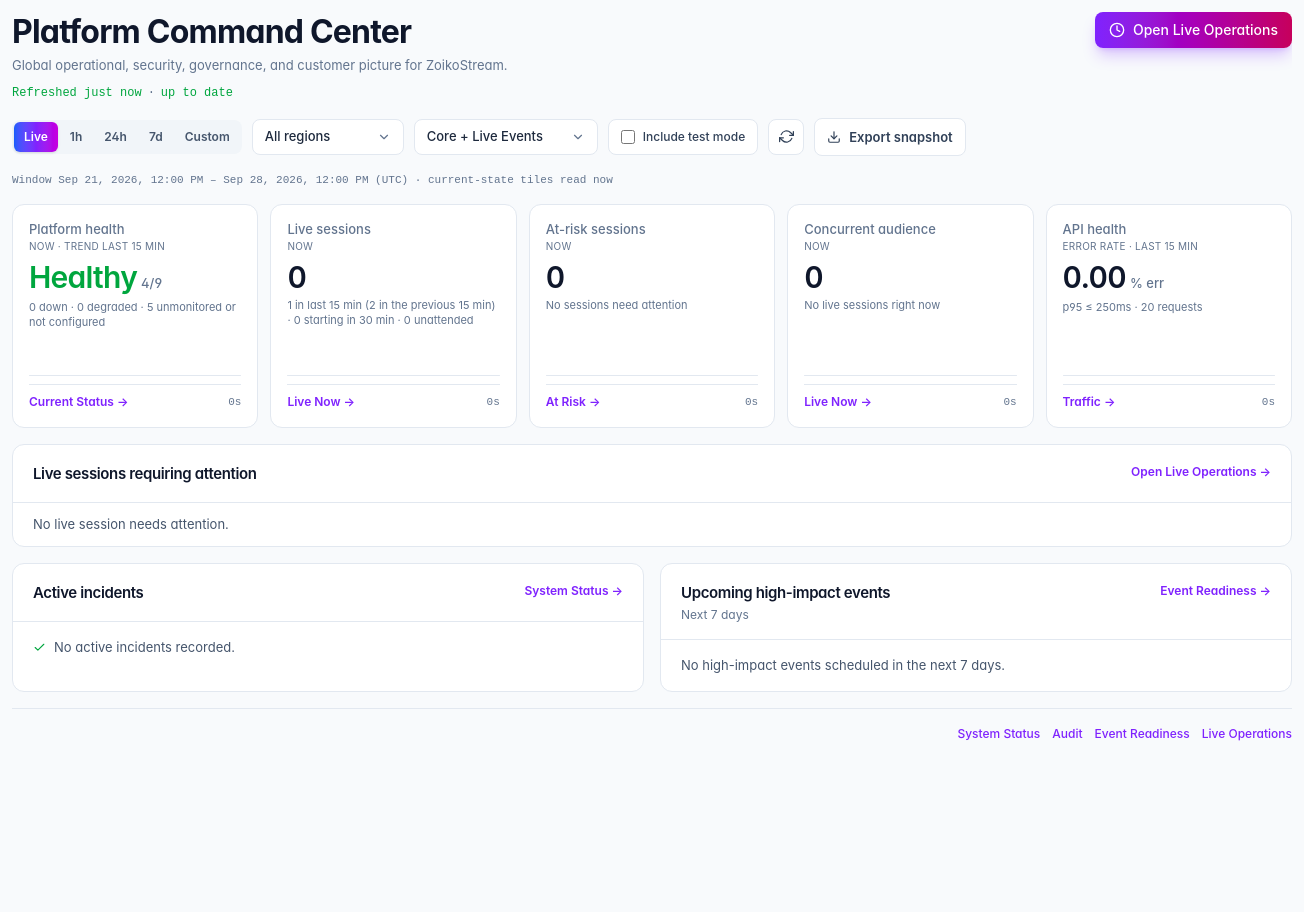
the range reaches the request › refuses an inverted custom window before sending it
Check: the text "Live sessions" is shown, box [287, 221, 371, 237]
Click the button "Custom" at (207, 136), box [175, 122, 240, 152]
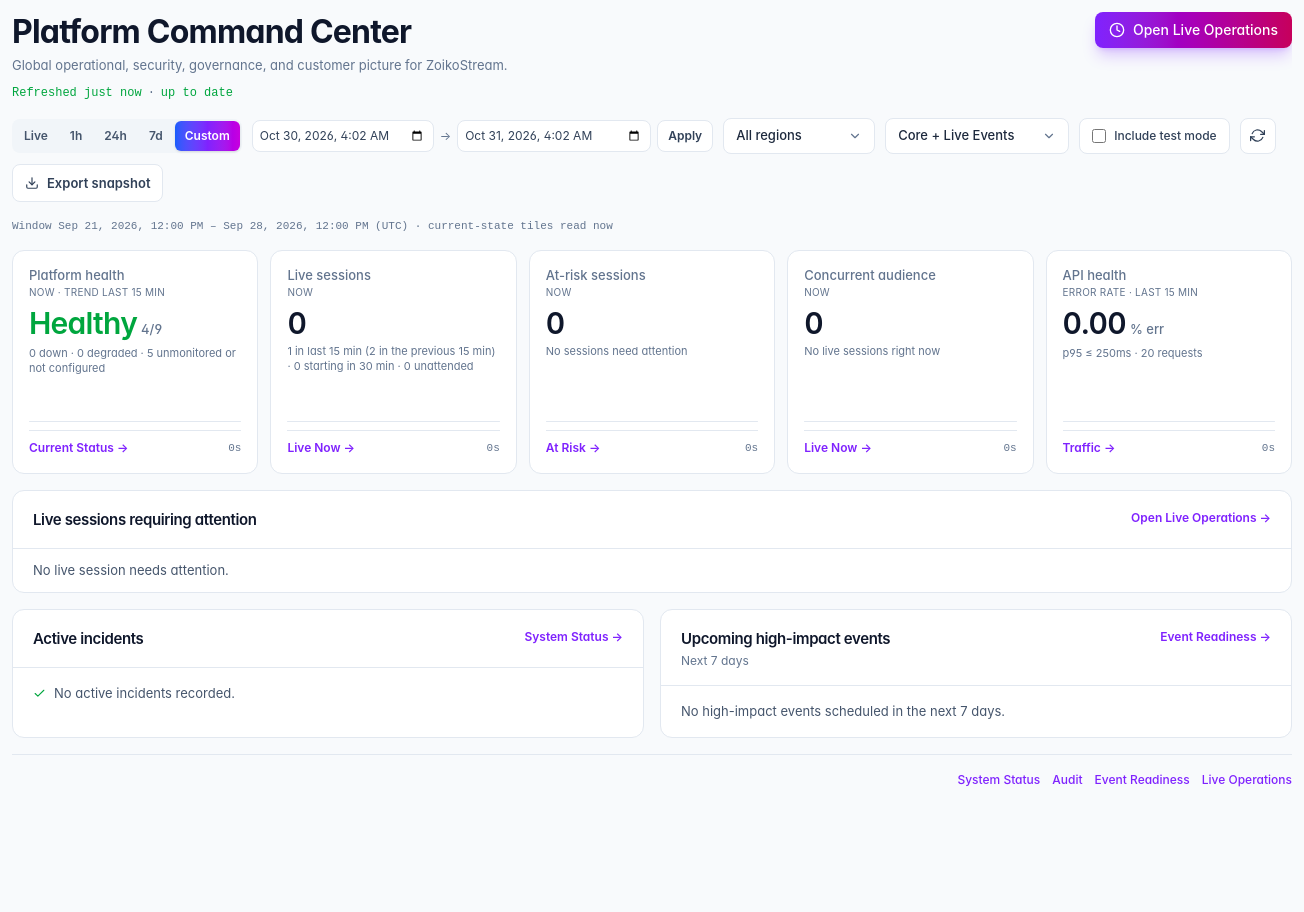
Replace the text in the field named "Window start" with "2026-09-21T10:00" at (343, 136), box [252, 120, 434, 152]
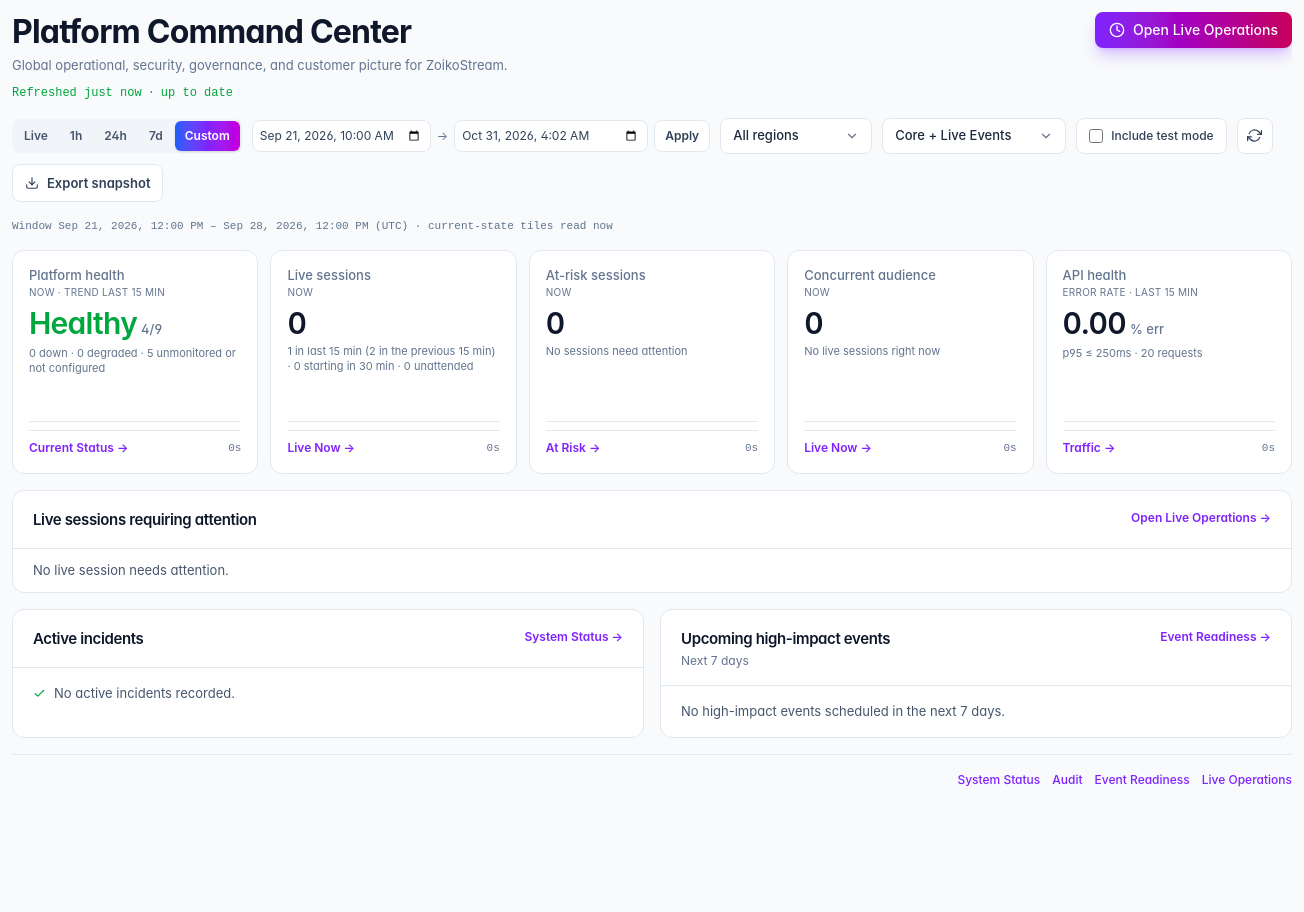
Replace the text in the field named "Window end" with "2026-09-20T10:00" at (551, 136), box [454, 120, 648, 152]
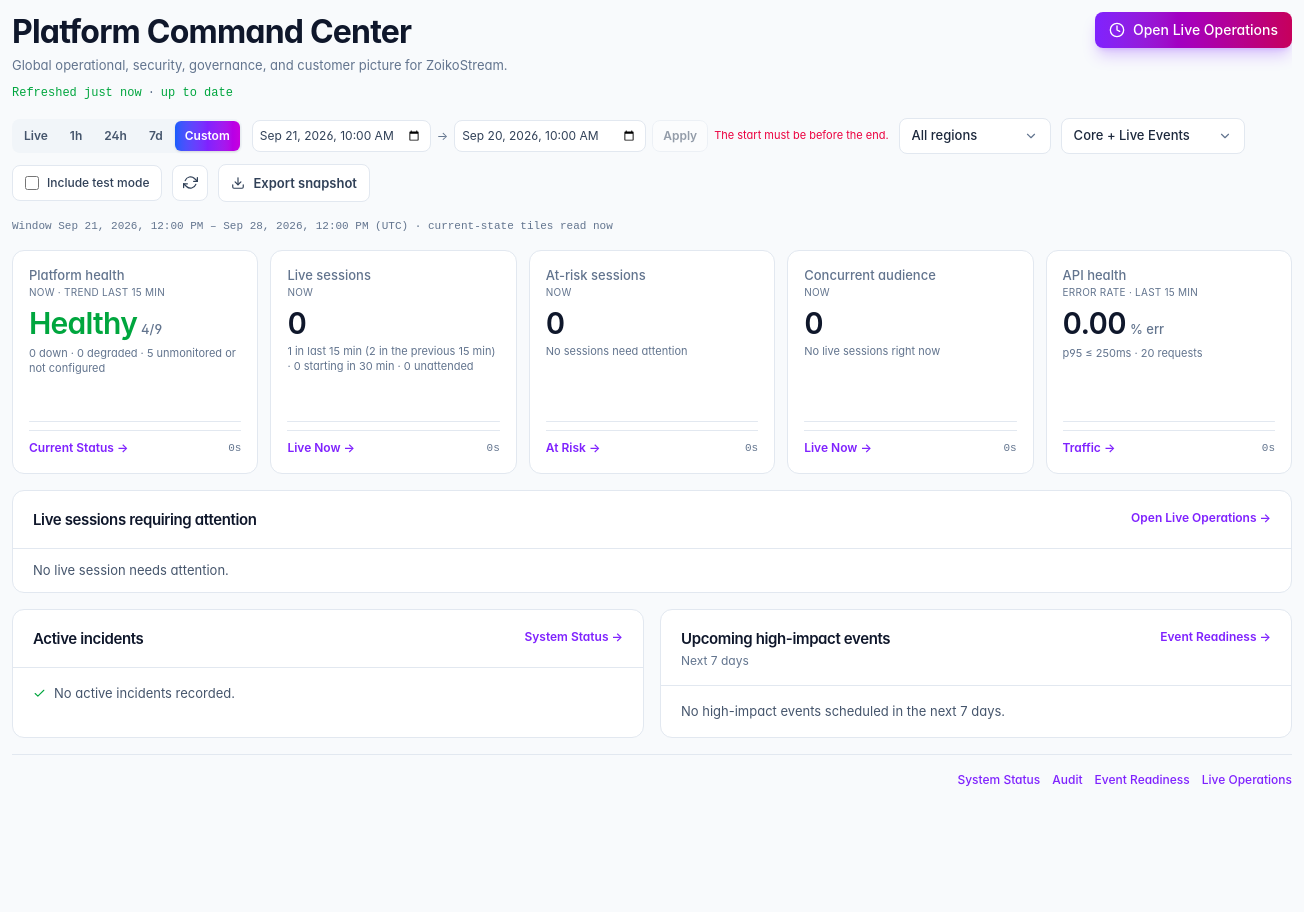
Check: the button "Apply" is disabled, box [652, 120, 708, 152]
Check: the message shows "start must be before the end", box [714, 128, 889, 142]
